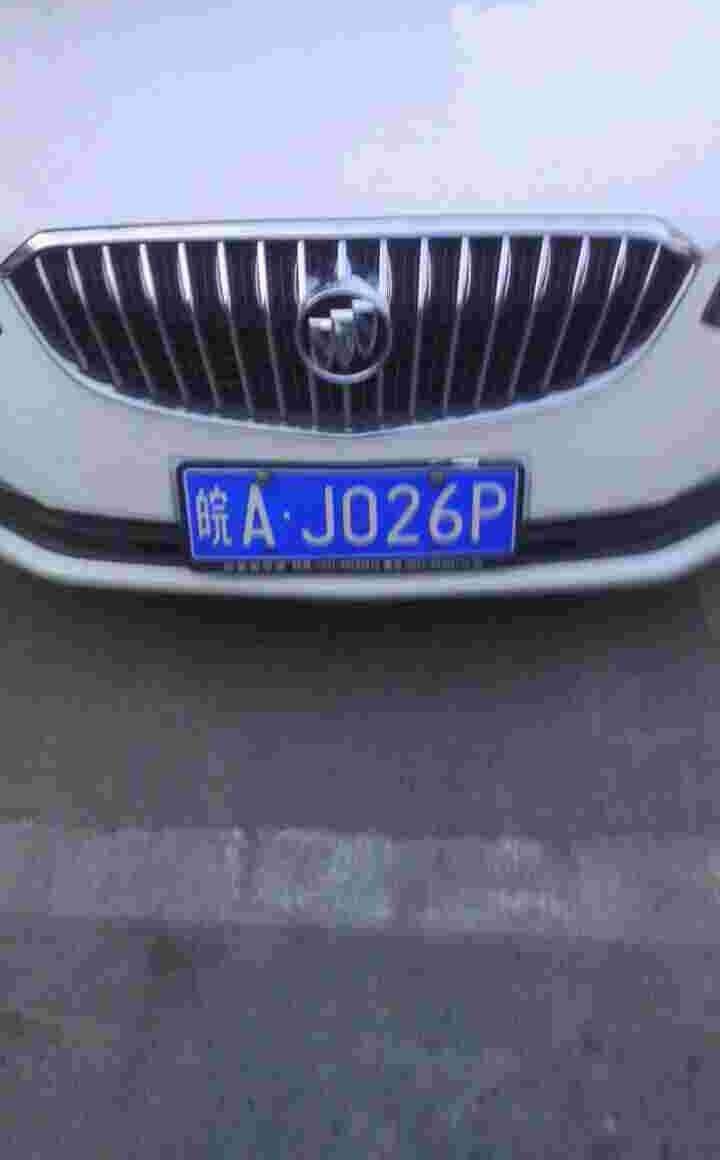license_plate: (180, 464, 522, 570)
